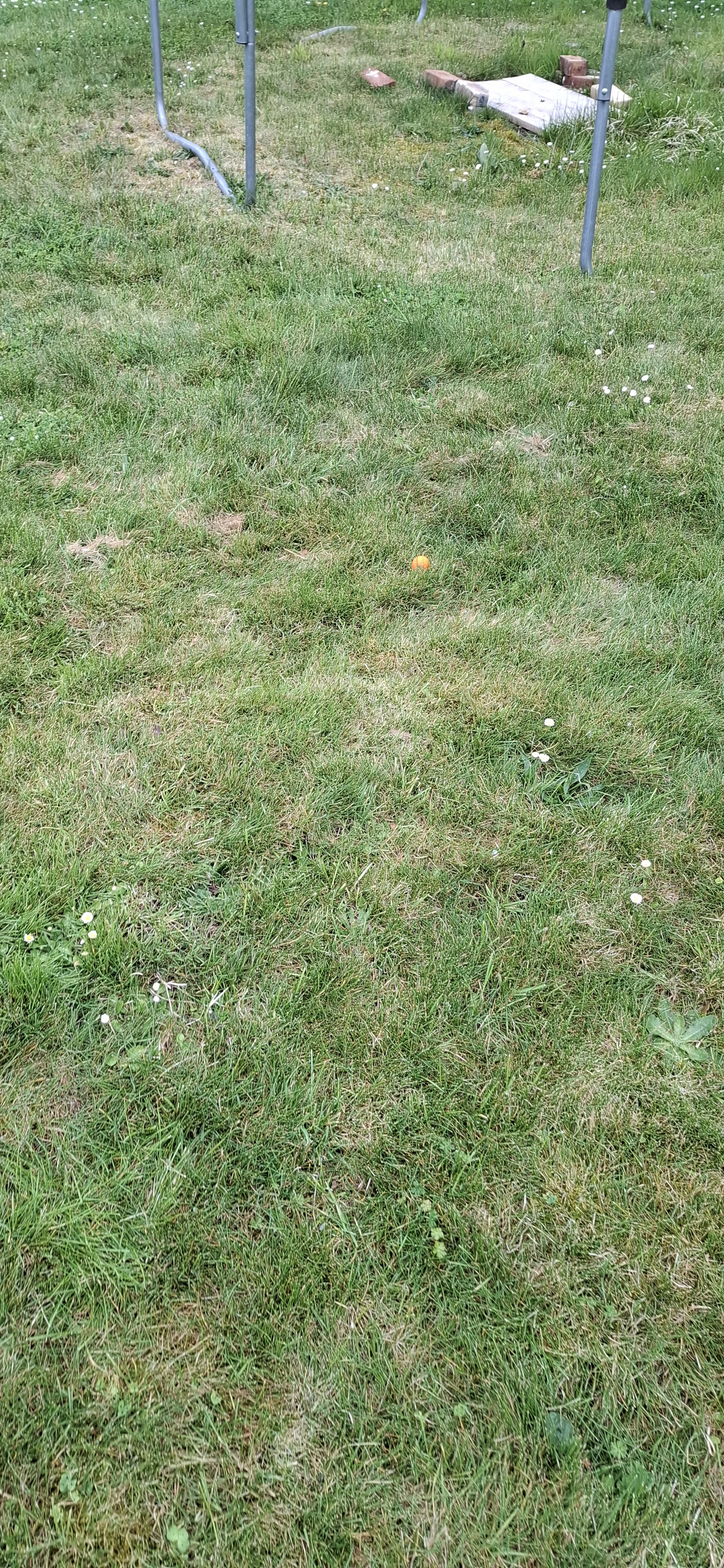ball: (256, 638, 265, 677)
